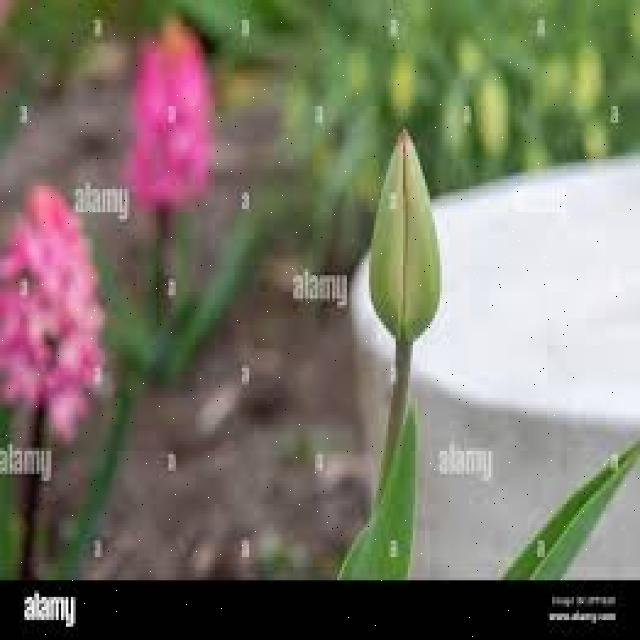Unbloomed: (363, 114, 446, 375)
